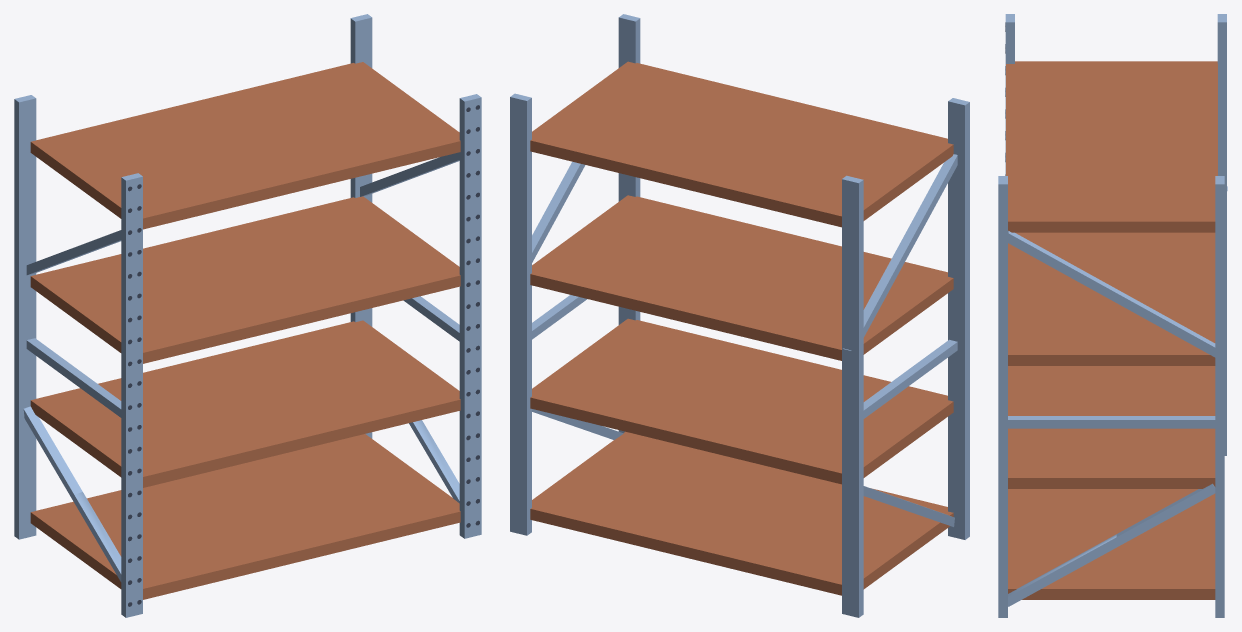
File: ShelfFinal.fbx
3 renders of one model, left to right at view 1: azimuth 30°, elevation 25°; view 2: azimuth 150°, elevation 25°; view 3: azimuth 270°, elevation 25°, orthographic.
Visible parts, largest first — view 1: shelf, decor1, decor2; view 2: shelf; view 3: shelf.
Boxes of the visible parts, x1=… form: shelf: x1=14, y1=14, x2=481, y2=617; decor1: x1=128, y1=184, x2=141, y2=606; decor2: x1=466, y1=105, x2=479, y2=527; shelf: x1=510, y1=14, x2=969, y2=617; shelf: x1=998, y1=14, x2=1227, y2=617.
Bounding box in the file's own units: 168 × 200 × 95.75.
